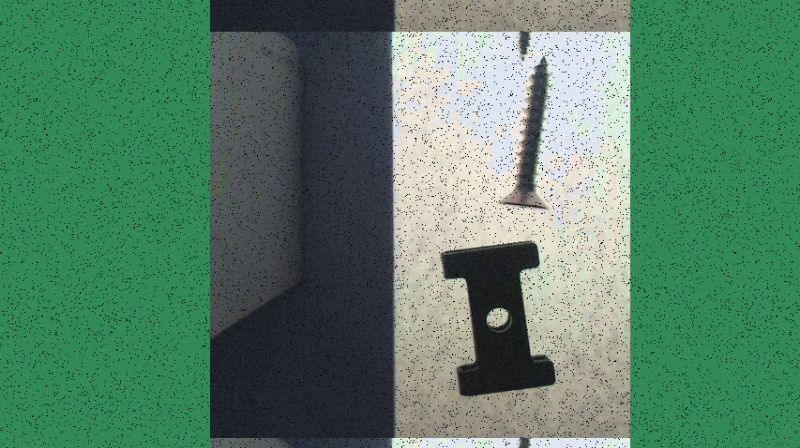O001: (492, 0, 562, 62)
O002: (441, 240, 554, 397)
S001: (498, 58, 549, 209)
